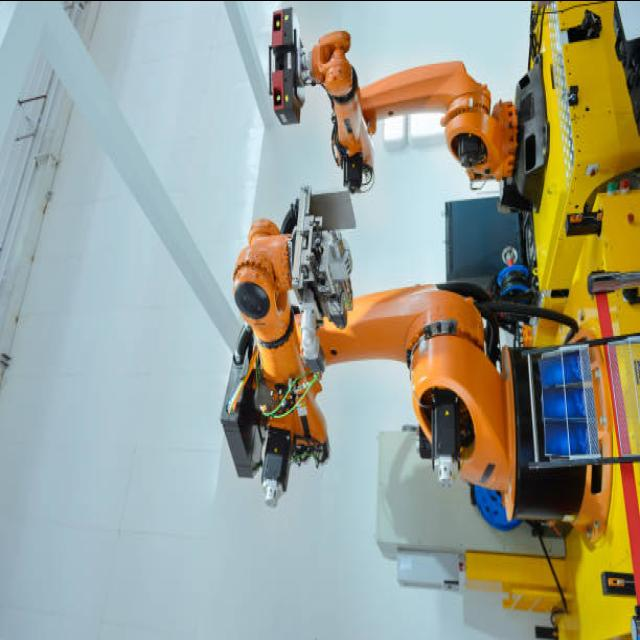Robotic-arm: (218, 215, 522, 526), (256, 9, 519, 180)
